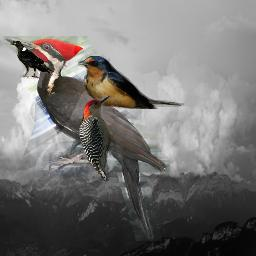Crow: (10, 41, 54, 79)
Swallow: (78, 56, 185, 109)
Woodpecker: (3, 36, 170, 241), (78, 95, 116, 181)
